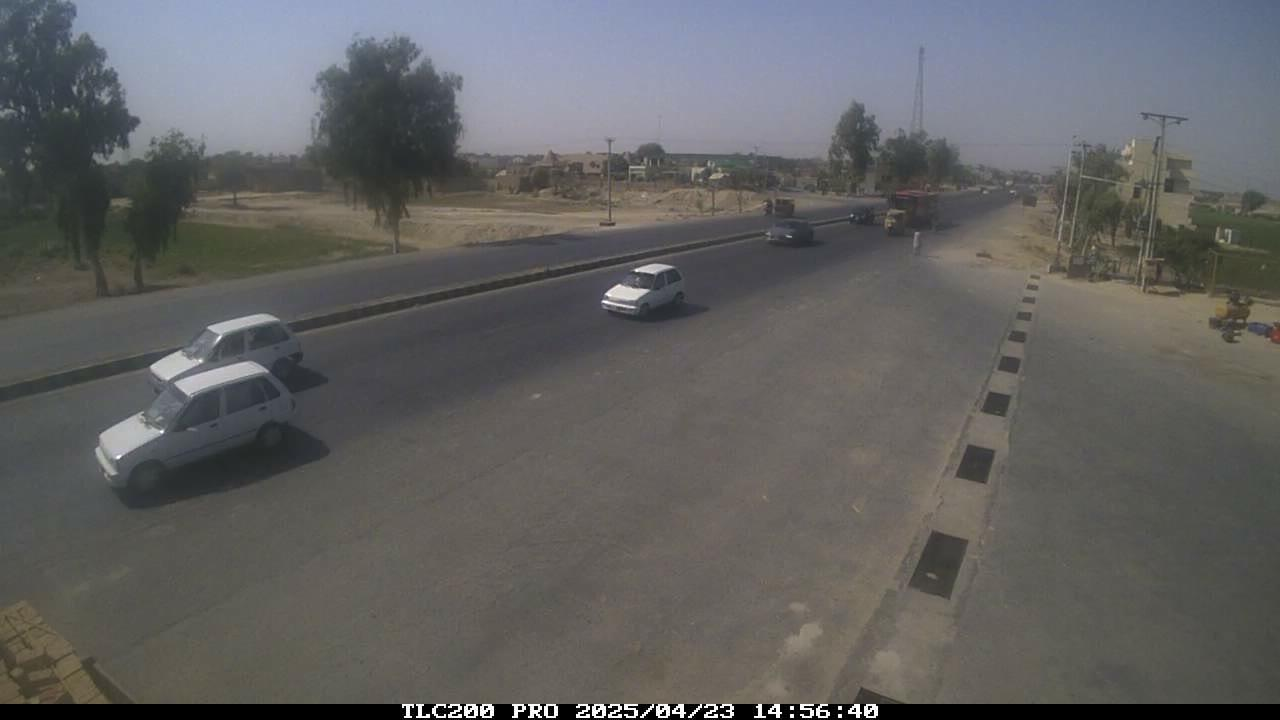car: (88, 356, 312, 499), (600, 261, 704, 320)
